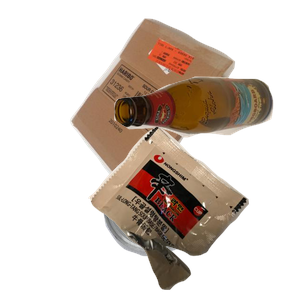cardboard: (67, 16, 295, 196)
glass: (111, 74, 300, 204)
plastic: (100, 152, 293, 300)
trash: (86, 124, 300, 300)
